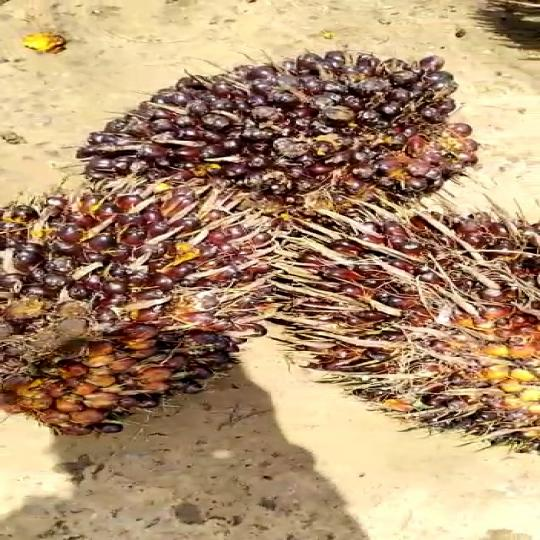kurang masak: (0, 181, 307, 449), (252, 191, 540, 468), (72, 36, 475, 206)
